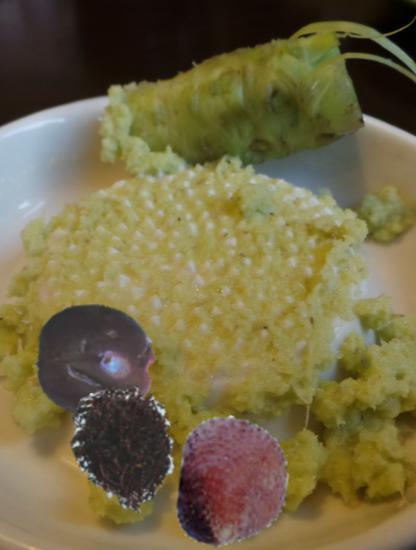Passion: (34, 299, 158, 423)
Rambutan: (61, 384, 193, 516)
Salak: (166, 416, 299, 549)
